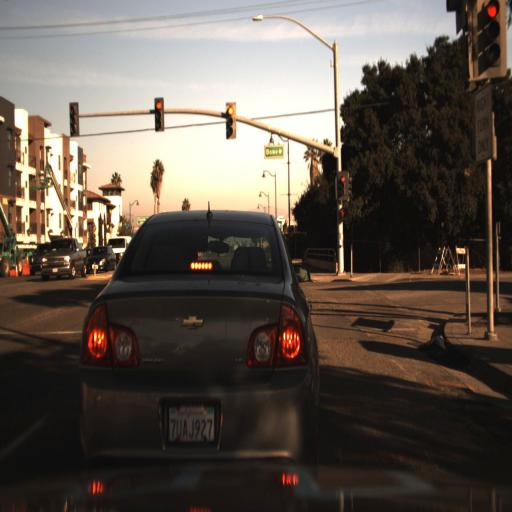car: (76, 207, 322, 477), (38, 234, 86, 280), (21, 239, 55, 281), (80, 242, 117, 276), (103, 230, 133, 270)
trafficLight: (225, 100, 236, 142), (68, 102, 79, 136)
trafficLight-Red: (470, 2, 508, 78), (477, 0, 498, 67), (153, 96, 164, 132), (336, 171, 349, 201), (339, 170, 346, 189)
